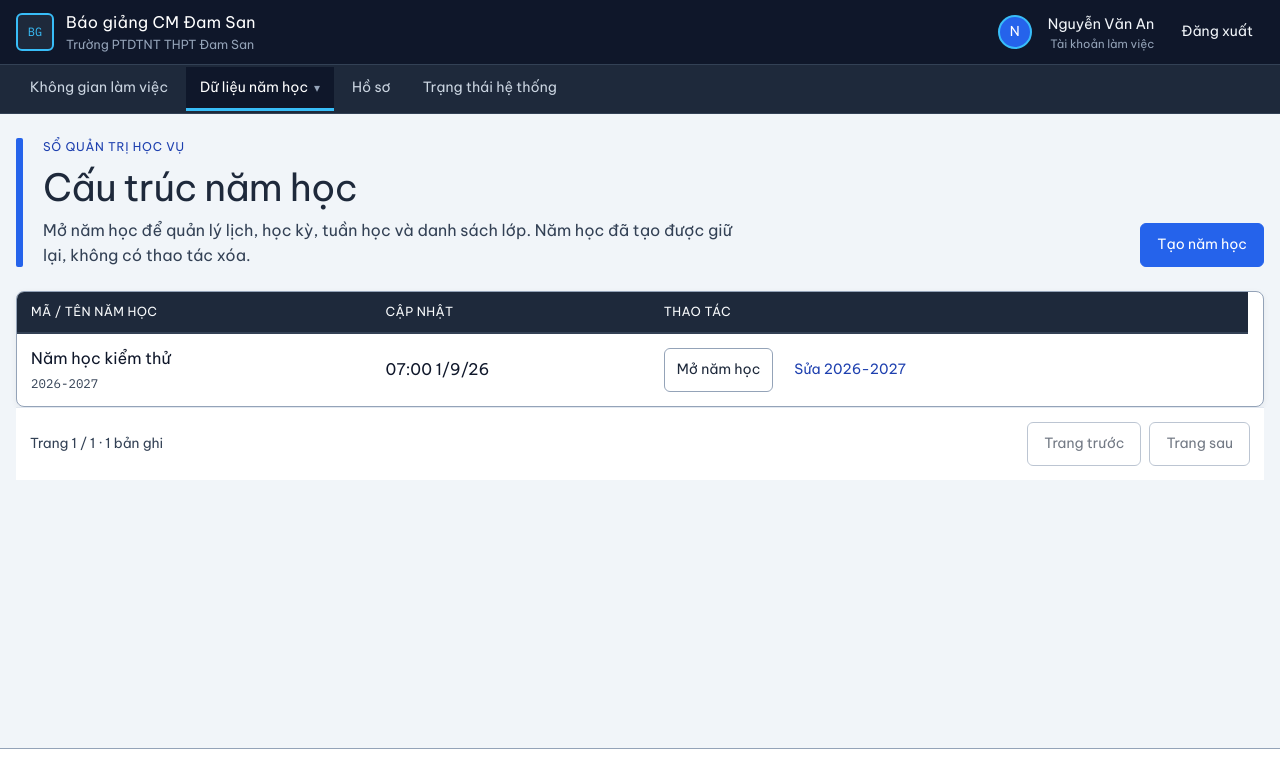
P5-058 academic presentation boundaries › keeps the year draft and exact normalized payload after conflict, without automatic retry
Click the button "Tạo năm học": (1202, 245) [1140,223,1264,267]
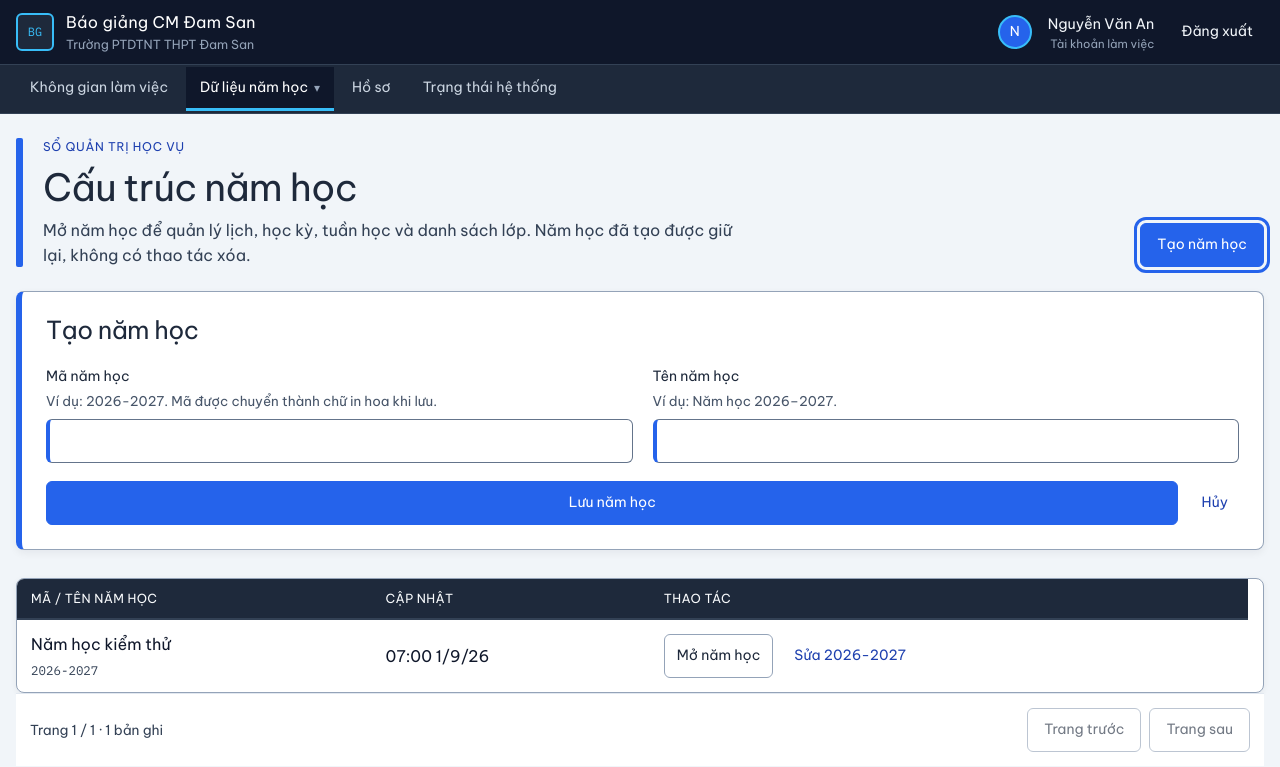
In the field labelled "Mã năm học": (339, 441) [46,419,632,463], type " nh26 "
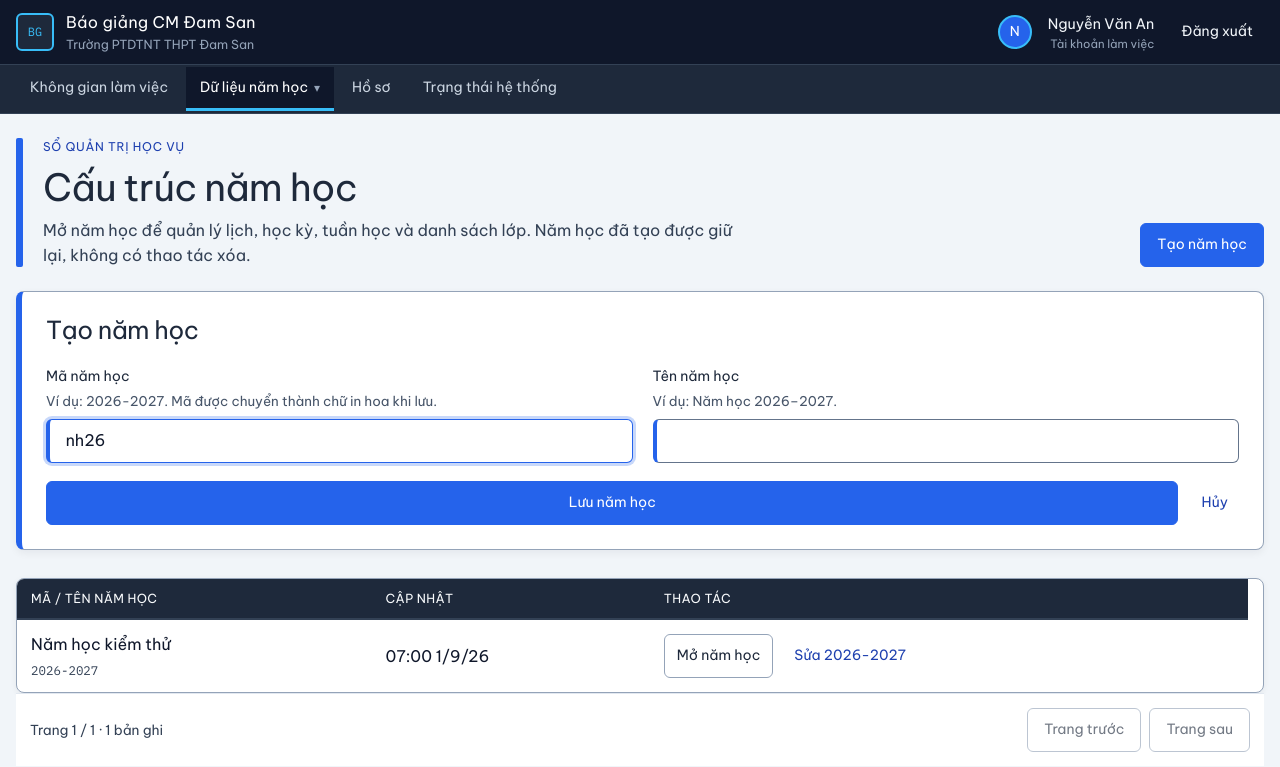
In the field labelled "Tên năm học": (946, 441) [652,419,1239,463], type " Năm học mới "
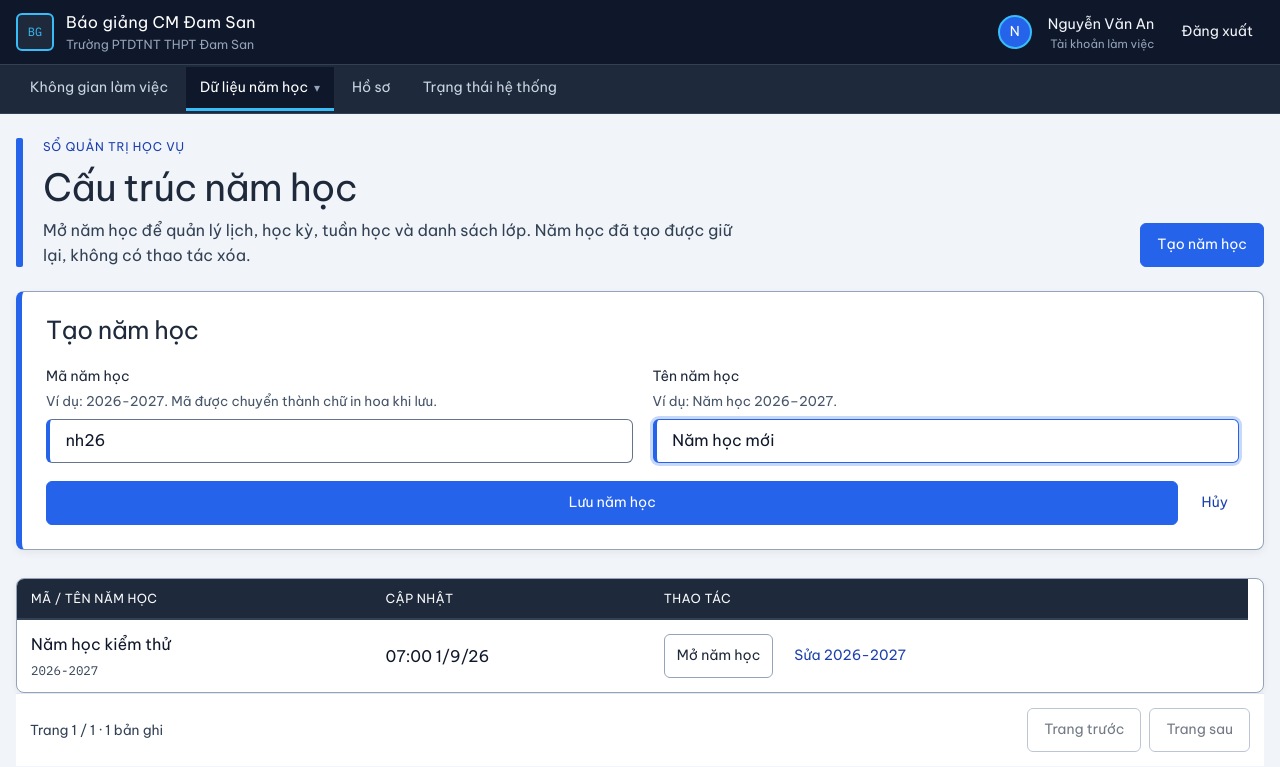
Click the button "Lưu năm học": (612, 503) [46,481,1178,525]
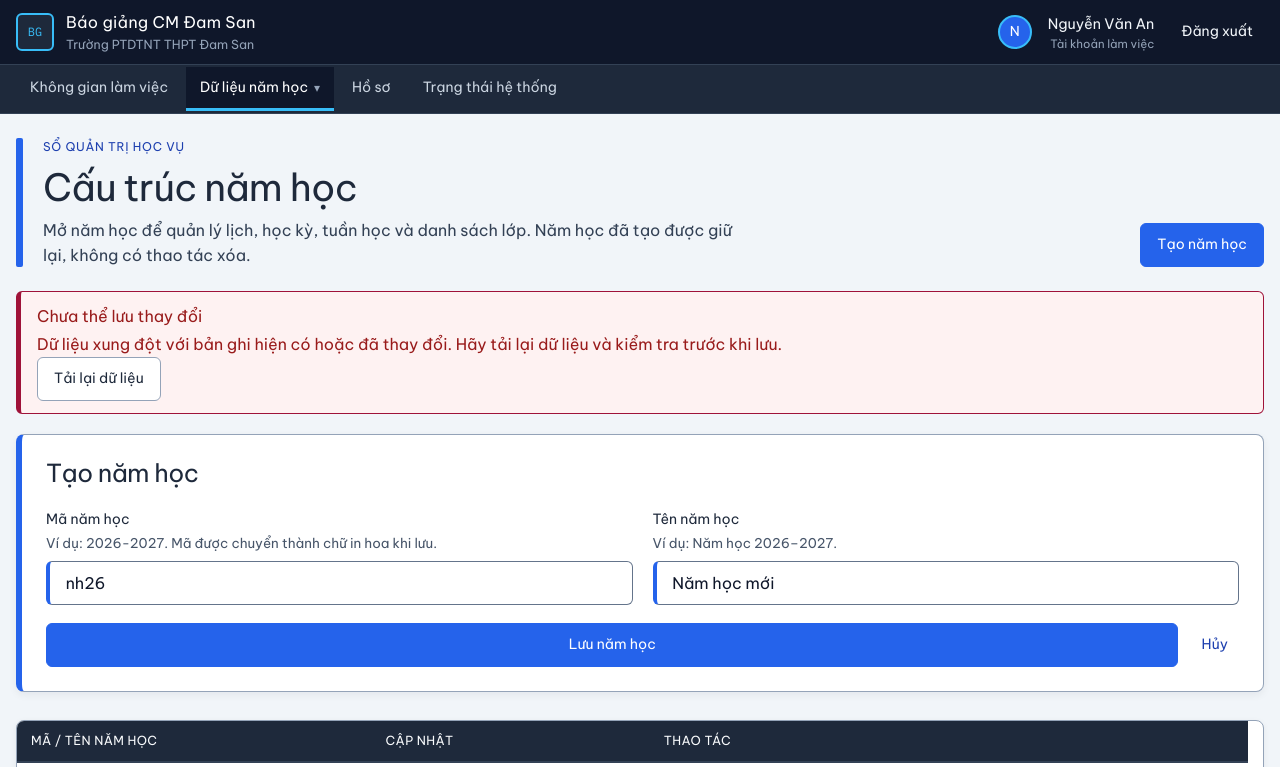
Now the text "Dữ liệu xung đột" is shown, box [37,334,782,354]
